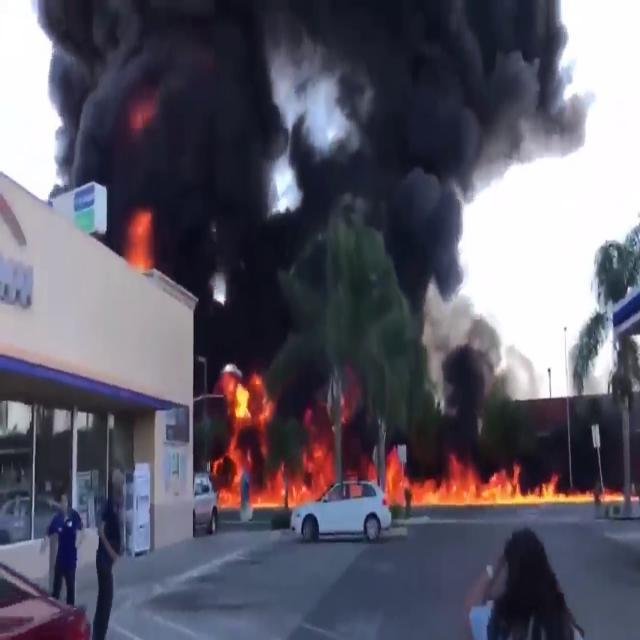Fire: (207, 368, 335, 516), (408, 463, 606, 508), (407, 456, 567, 508)
Smoke: (24, 0, 280, 347), (282, 0, 580, 244)
